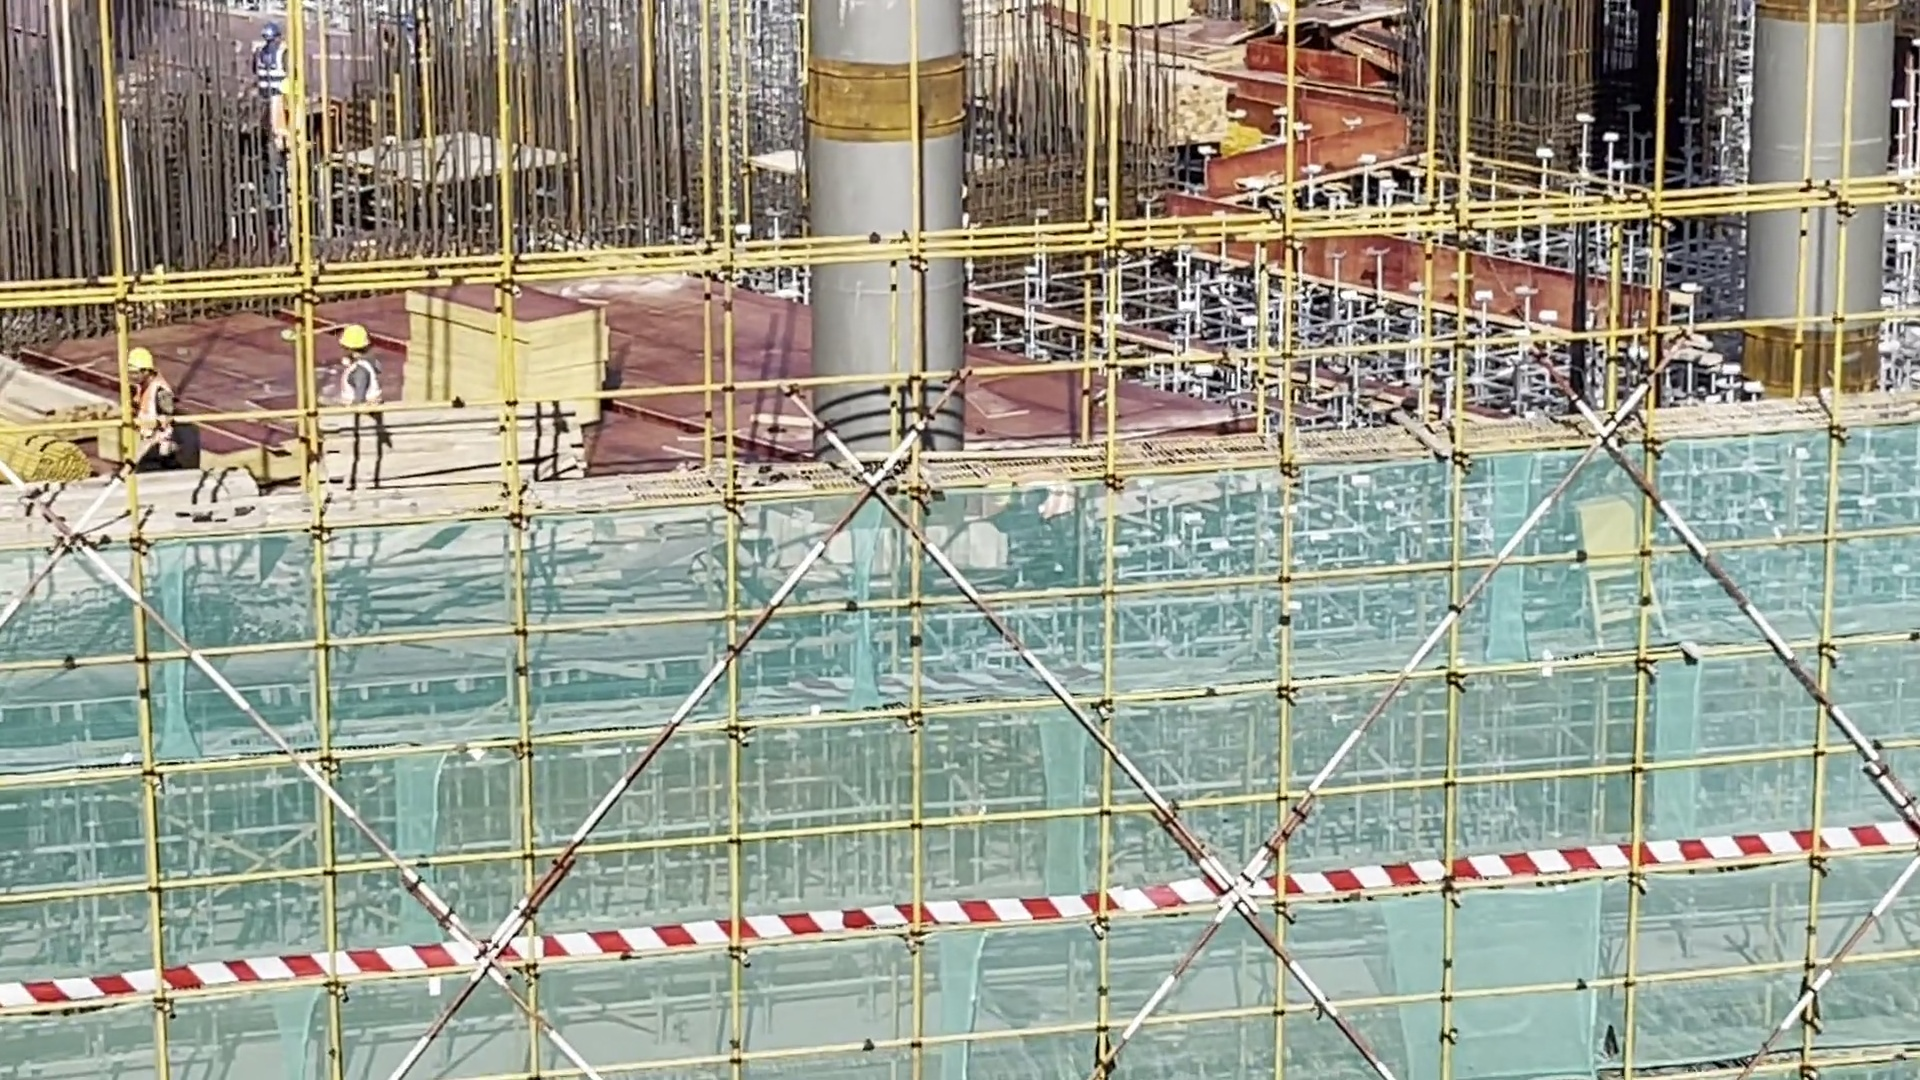ebox: (1552, 488, 1666, 644)
helmet: (340, 319, 375, 352), (122, 339, 152, 370), (258, 13, 288, 44)
person: (123, 329, 194, 486), (337, 315, 400, 457), (243, 11, 293, 123)
vest: (134, 384, 174, 435), (342, 360, 384, 405), (256, 50, 283, 90)
